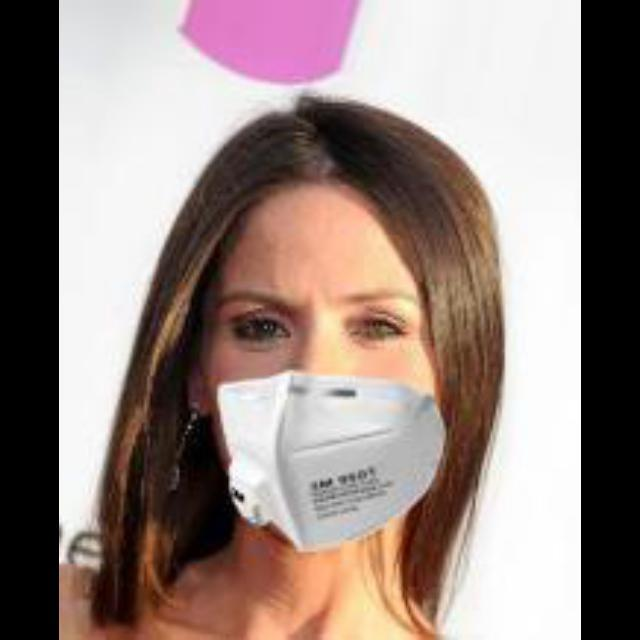suspicion: (199, 120, 463, 542)
